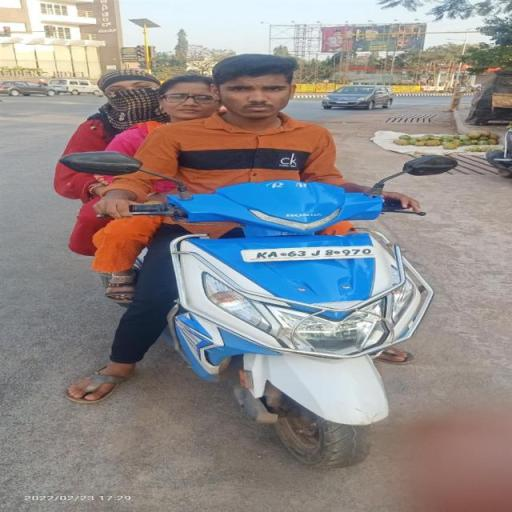tripple riding: (37, 50, 408, 248)
